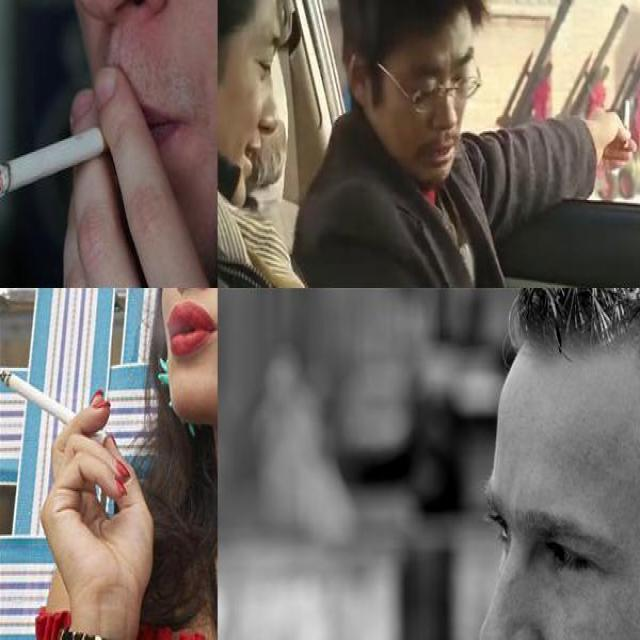smoke: (0, 110, 148, 199), (0, 366, 107, 446), (622, 96, 632, 150)
